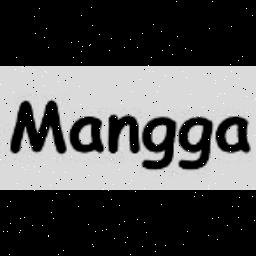m: (8, 95, 68, 157)
